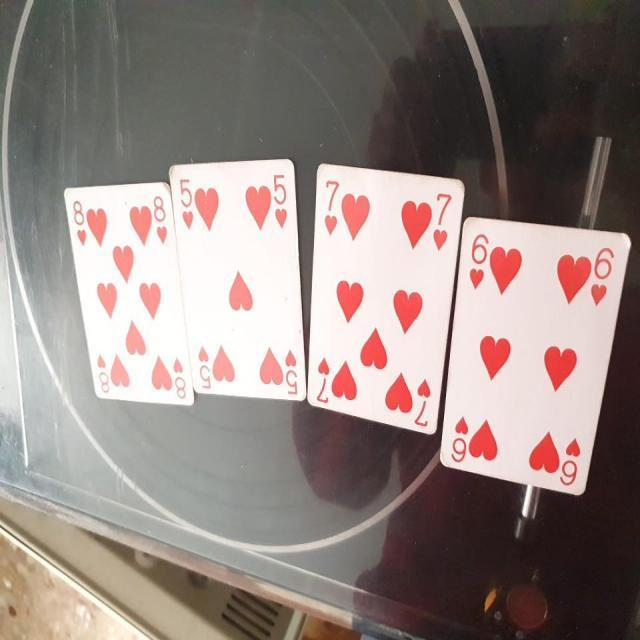5 of hearts: (163, 154, 310, 406)
6 of hearts: (438, 213, 636, 504)
7 of hearts: (302, 160, 466, 437)
8 of hearts: (54, 181, 202, 418)
